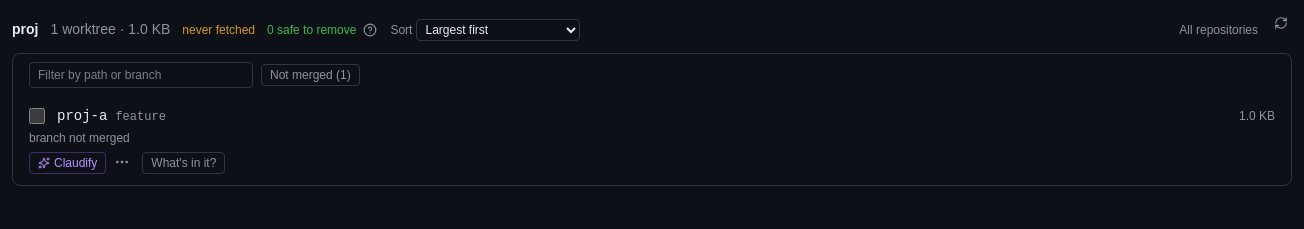
Test: WorktreesPage › says why a worktree could not be read
Step 1. Click the button with aria-label "what is in" → (184, 162), box [142,152,225,174]
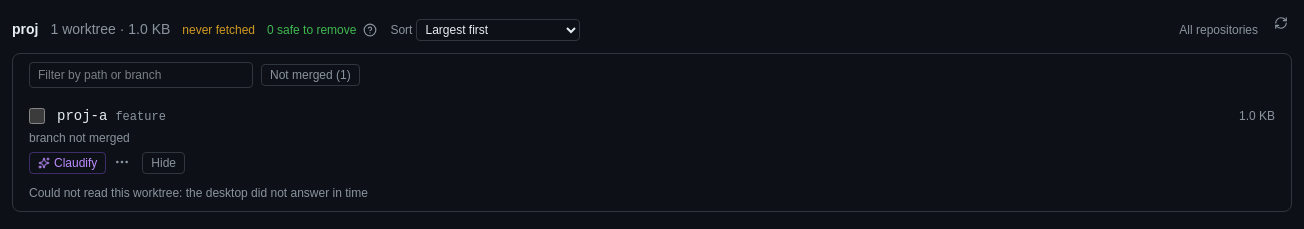
Check: the text "Could not read this worktree: the desktop did not answer in time" is shown, box [29,186,368,200]
